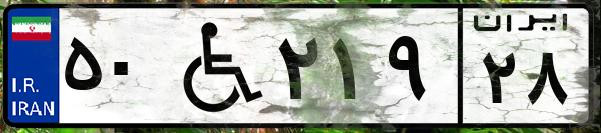0: (110, 28, 158, 98)
1: (330, 28, 385, 110)
2: (270, 28, 330, 110), (475, 38, 525, 113)
5: (57, 26, 110, 100)
8: (525, 38, 570, 115)
9: (385, 28, 445, 110)
ژ (معلولین و جانبازان): (158, 12, 270, 120)
